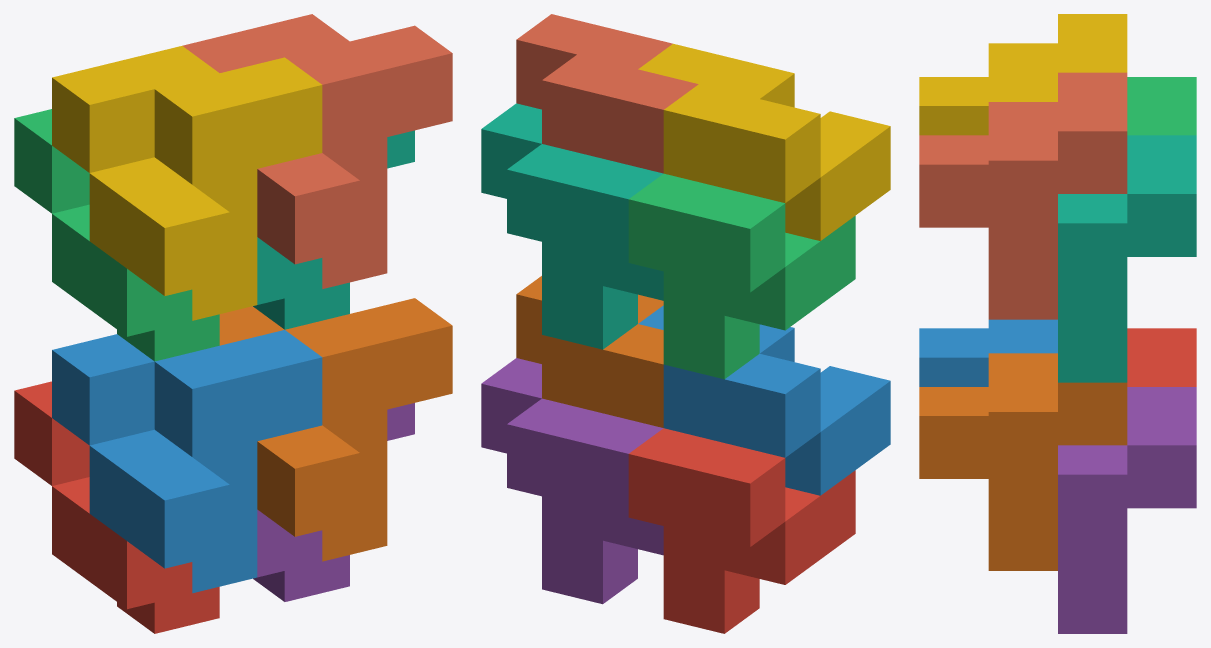
Rendered from tiling.obj.
The picture shows the model from 3 angles, left to right: view 1: azimuth 30°, elevation 25°; view 2: azimuth 150°, elevation 25°; view 3: azimuth 270°, elevation 25°; orthographic projection. The views are drawn at different scales.
Visible parts, largest first — view 1: copy_1_domain_4, copy_1_domain_2, copy_1_domain_8, copy_1_domain_6, copy_1_domain_3, copy_1_domain_1, copy_1_domain_7, copy_1_domain_5; view 2: copy_1_domain_3, copy_1_domain_1, copy_1_domain_4, copy_1_domain_5, copy_1_domain_7, copy_1_domain_2, copy_1_domain_8, copy_1_domain_6; view 3: copy_1_domain_8, copy_1_domain_6, copy_1_domain_7, copy_1_domain_5, copy_1_domain_4, copy_1_domain_2, copy_1_domain_1, copy_1_domain_3.
Part boxes in pixels (<box>): copy_1_domain_4: <box>52,46,322,320</box>; copy_1_domain_2: <box>52,330,322,593</box>; copy_1_domain_8: <box>182,14,452,288</box>; copy_1_domain_6: <box>219,298,452,561</box>; copy_1_domain_3: <box>14,109,219,361</box>; copy_1_domain_1: <box>14,381,219,633</box>; copy_1_domain_7: <box>253,130,414,329</box>; copy_1_domain_5: <box>253,403,414,601</box>; copy_1_domain_3: <box>628,173,855,379</box>; copy_1_domain_1: <box>628,428,855,633</box>; copy_1_domain_4: <box>638,43,890,240</box>; copy_1_domain_5: <box>481,358,663,604</box>; copy_1_domain_7: <box>481,103,663,349</box>; copy_1_domain_2: <box>638,305,890,495</box>; copy_1_domain_8: <box>516,14,698,173</box>; copy_1_domain_6: <box>516,276,663,427</box>; copy_1_domain_8: <box>919,72,1127,319</box>; copy_1_domain_6: <box>919,353,1127,570</box>; copy_1_domain_7: <box>1058,135,1196,382</box>; copy_1_domain_5: <box>1058,387,1196,633</box>; copy_1_domain_4: <box>919,14,1127,135</box>; copy_1_domain_2: <box>919,319,1057,386</box>; copy_1_domain_1: <box>1127,328,1196,386</box>; copy_1_domain_3: <box>1127,77,1196,135</box>.
Bounding box in the file's own units: 5 × 8 × 4.
